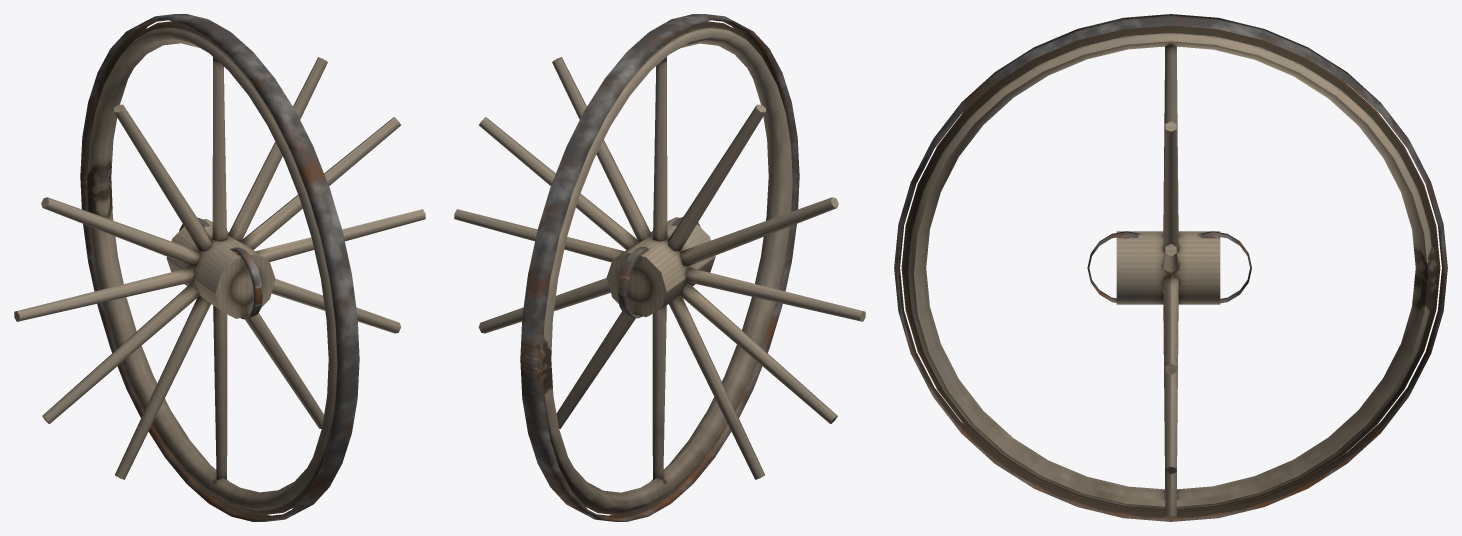
Rendered from SM_Camp_CannonCart_WheelL.fbx.
3 views of the same model, side by side, from view 1: azimuth 30°, elevation 25°; view 2: azimuth 150°, elevation 25°; view 3: azimuth 270°, elevation 25° (orthographic). The views are drawn at different scales.
Parts seen in each view (by area): view 1: SM_Camp_CannonCart_WheelL; view 2: SM_Camp_CannonCart_WheelL; view 3: SM_Camp_CannonCart_WheelL.
Part boxes in pixels (x1,y1,x2,y2): SM_Camp_CannonCart_WheelL: (14, 14, 425, 521); SM_Camp_CannonCart_WheelL: (454, 14, 865, 521); SM_Camp_CannonCart_WheelL: (894, 14, 1447, 521).
Bounding box in the file's own units: 101 × 112 × 112.
